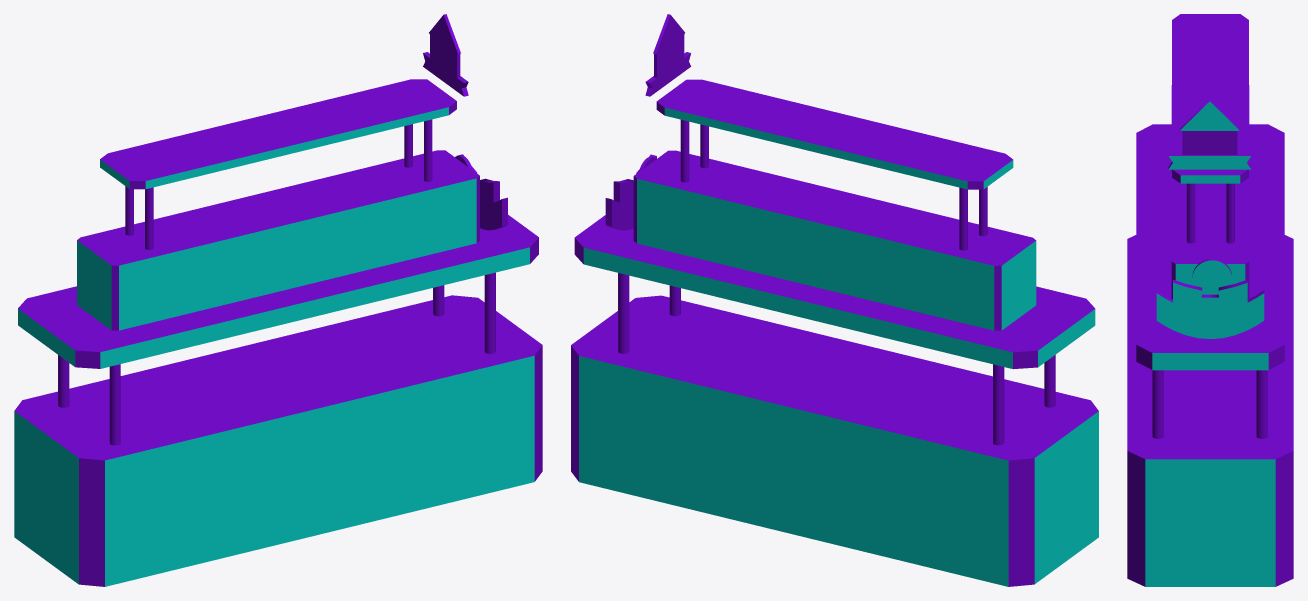
The model's file is tight_table1.fbx.
3 views of the same model, side by side, from view 1: azimuth 30°, elevation 25°; view 2: azimuth 150°, elevation 25°; view 3: azimuth 270°, elevation 25° (orthographic).
Parts seen in each view (by area): view 1: Box005; view 2: Box005; view 3: Box005.
Boxes of the visible parts, x1,y1,x2,y2 form: Box005: (14,14,542,586); Box005: (571,14,1098,586); Box005: (1127,14,1293,586).
Bounding box in the file's own units: 38.99 × 36.12 × 12.01.
